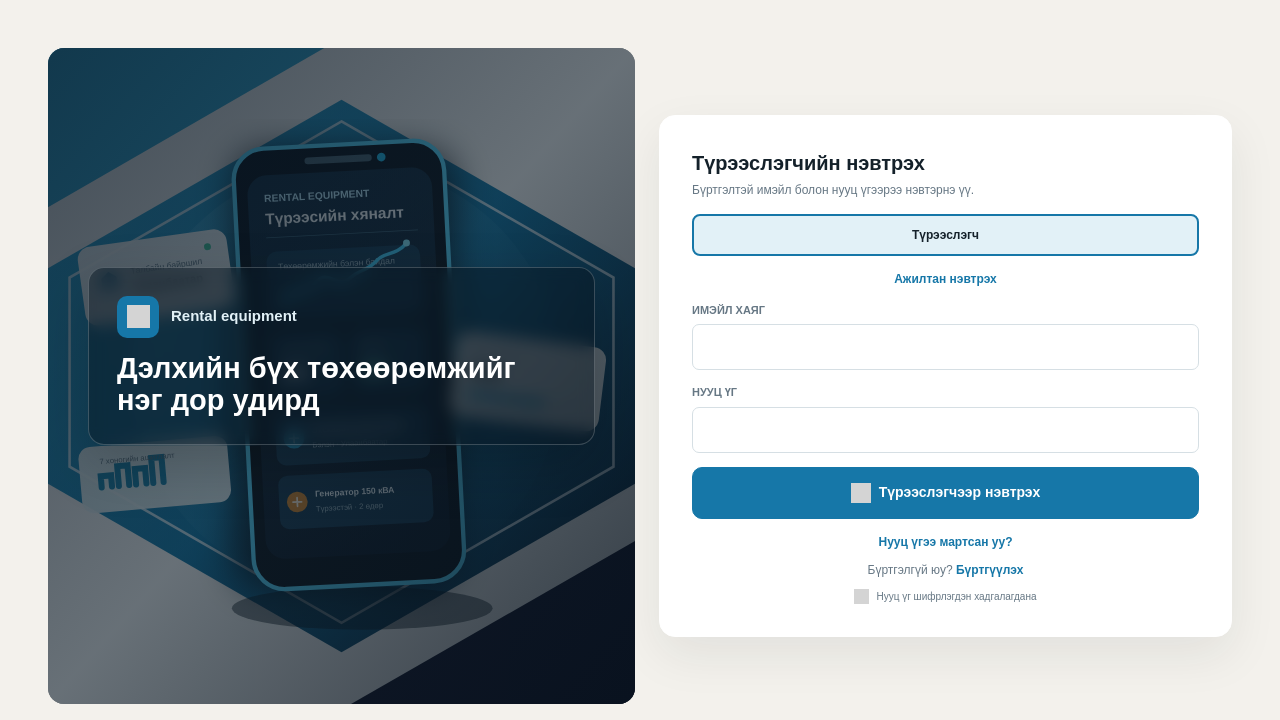
MobileOpsApp screens › renders successfully loaded dashboard data instead of fallback data
Type "test@example.com" into the field labelled "ИМЭЙЛ ХАЯГ".
click(946, 347); type("test@example.com")  # box x1=692 y1=324 x2=1199 y2=370
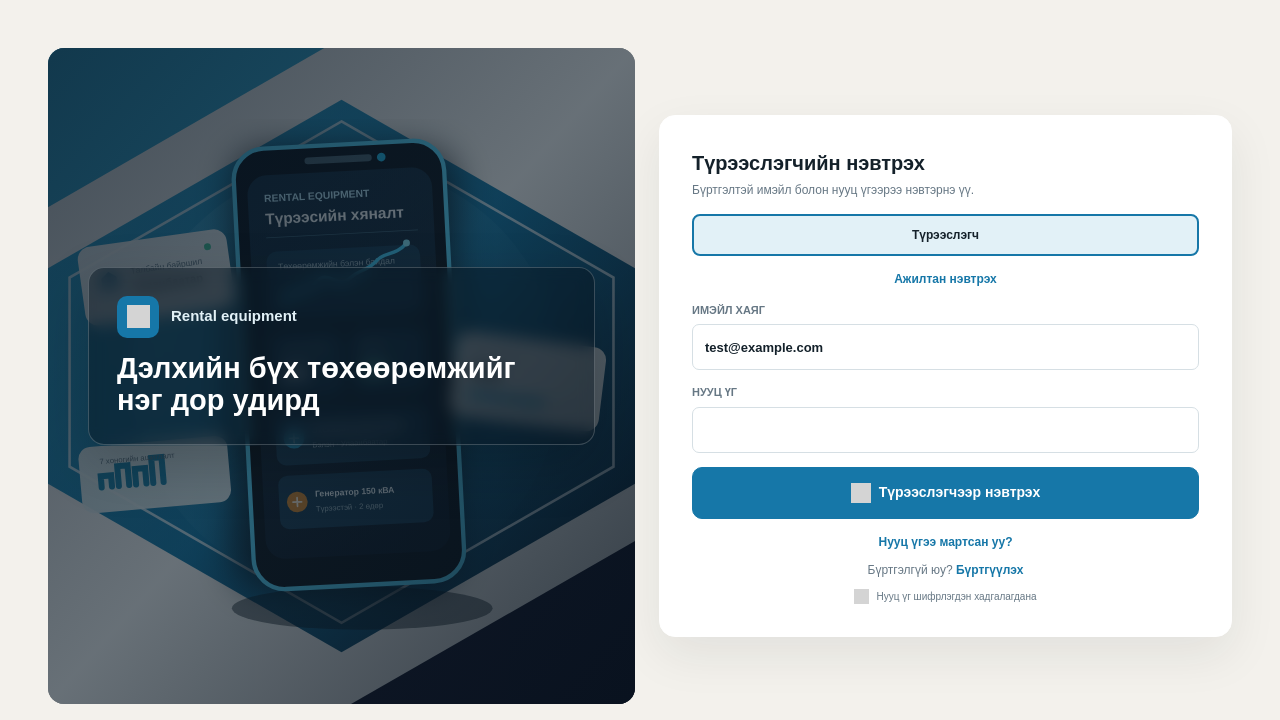
Type "secure-password" into the password field labelled "НУУЦ ҮГ".
click(946, 430); type("secure-password")  # box x1=692 y1=407 x2=1199 y2=453
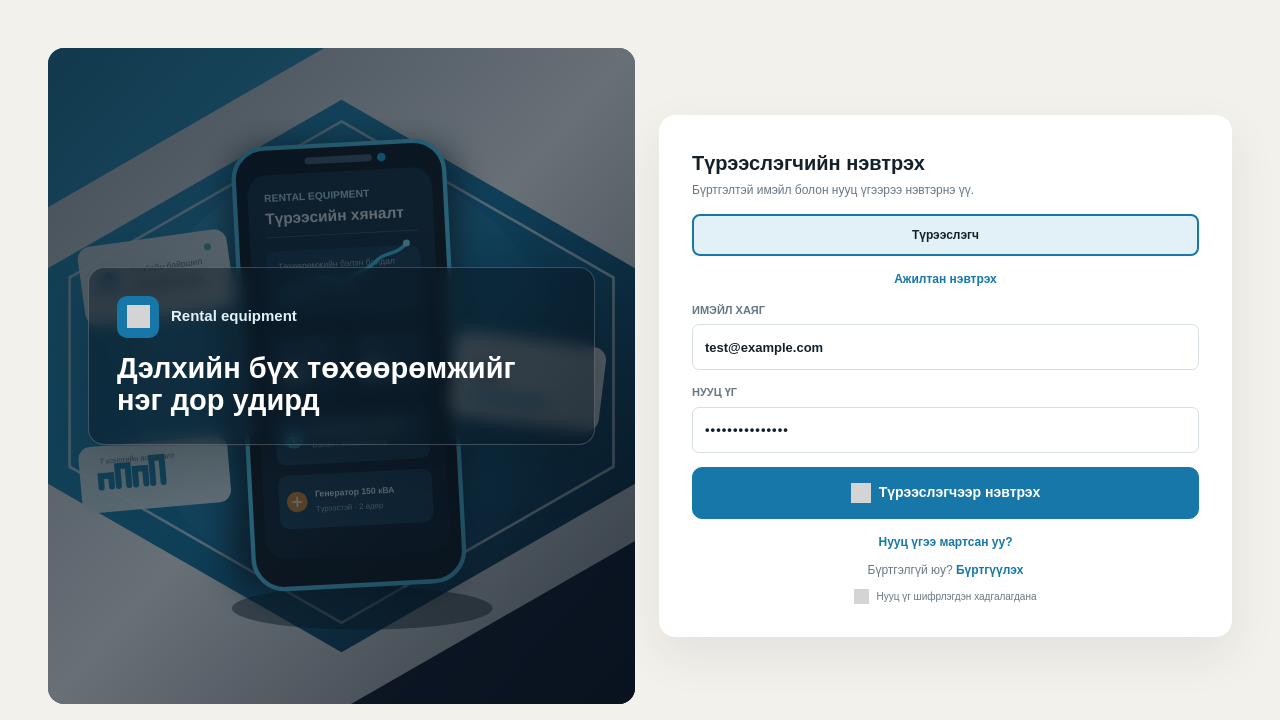
Click the button "Ажилтан нэвтрэх".
click(946, 279)  # box x1=894 y1=270 x2=997 y2=288
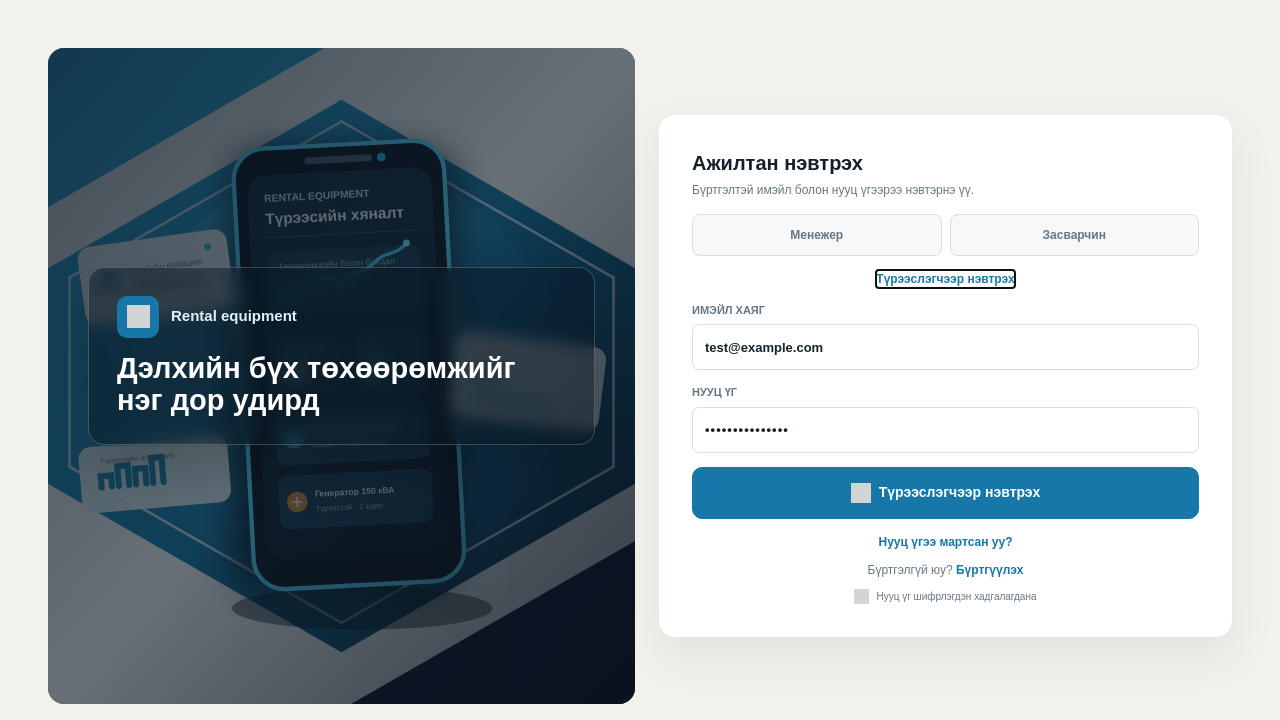
Click the button with aria-label "Менежер Тайлан".
click(817, 235)  # box x1=692 y1=214 x2=942 y2=256
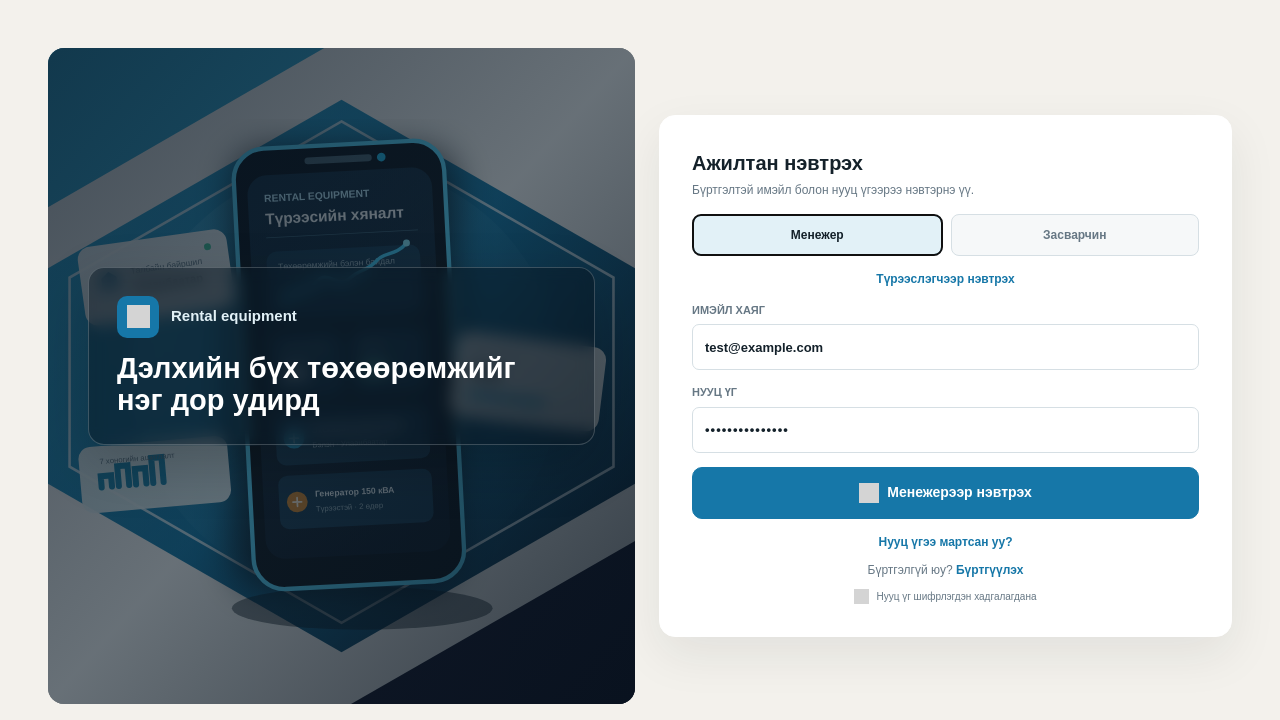
Click the button "Менежерээр нэвтрэх".
click(946, 493)  # box x1=692 y1=467 x2=1199 y2=519
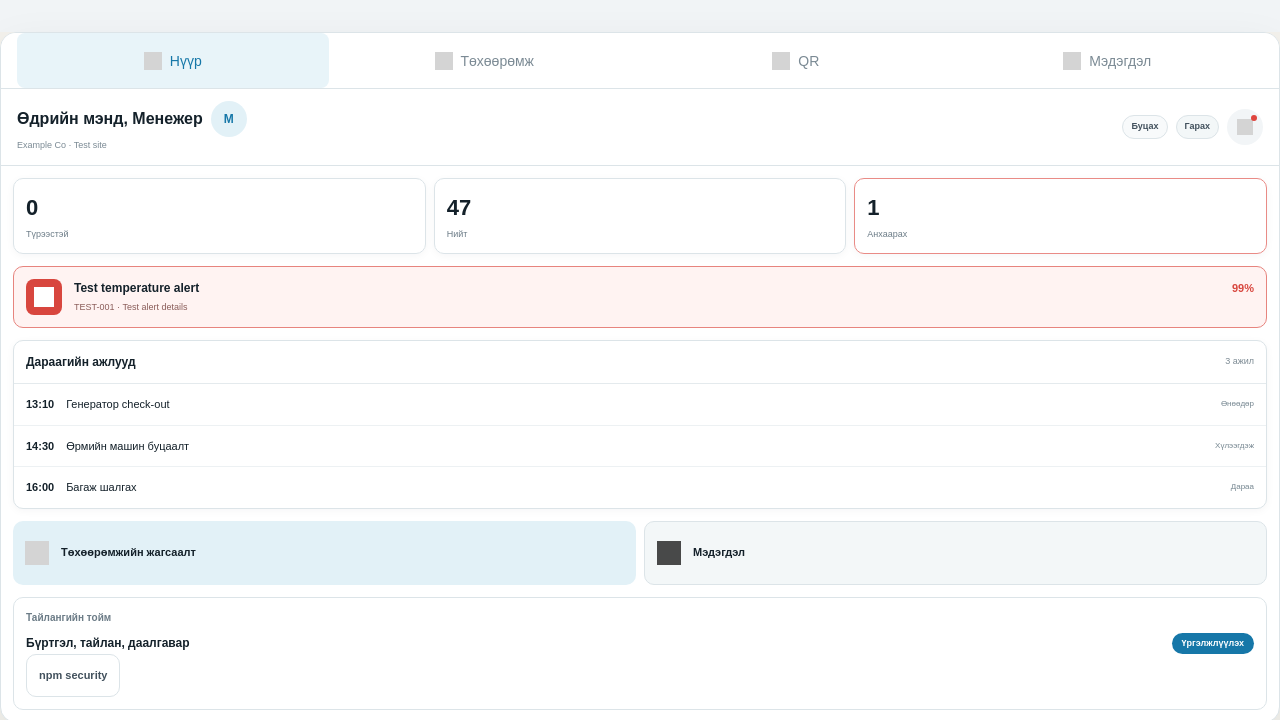
Result: the button "Test temperature alert 99% TEST-001 · Test alert details" is shown at x1=13 y1=266 x2=1267 y2=328
Result: the text "47" is shown at x1=447 y1=194 x2=471 y2=220
